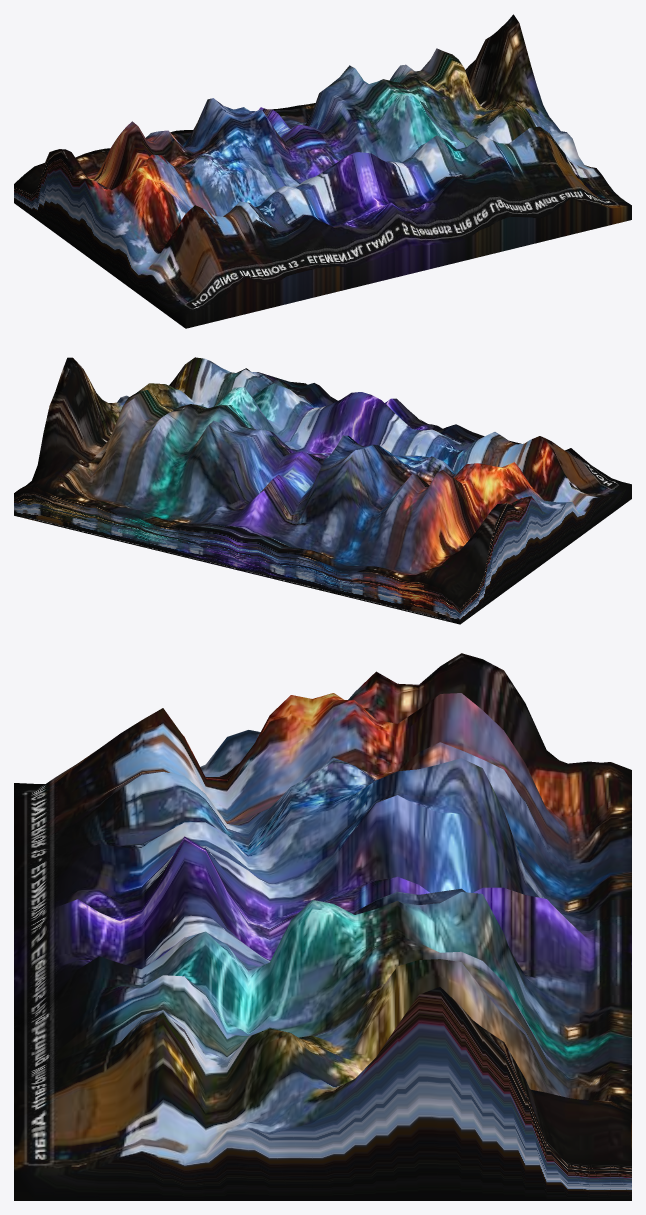
Rendered from INTERIOR_13_Elemental_Land.glb.
3 views of the same model, one above another, from view 1: azimuth 30°, elevation 25°; view 2: azimuth 150°, elevation 25°; view 3: azimuth 270°, elevation 25° (orthographic). The views are drawn at different scales.
Visible parts, largest first — view 1: INTERIOR_13_Elemental_Land; view 2: INTERIOR_13_Elemental_Land; view 3: INTERIOR_13_Elemental_Land.
Boxes of the visible parts, x1,y1,x2,y2 form: INTERIOR_13_Elemental_Land: (14,14,631,328); INTERIOR_13_Elemental_Land: (14,357,631,624); INTERIOR_13_Elemental_Land: (14,653,631,1200).
Size of the model in its own units: 2 by 0.51 by 1.33.
Materials: 1 (1 with a texture image).
